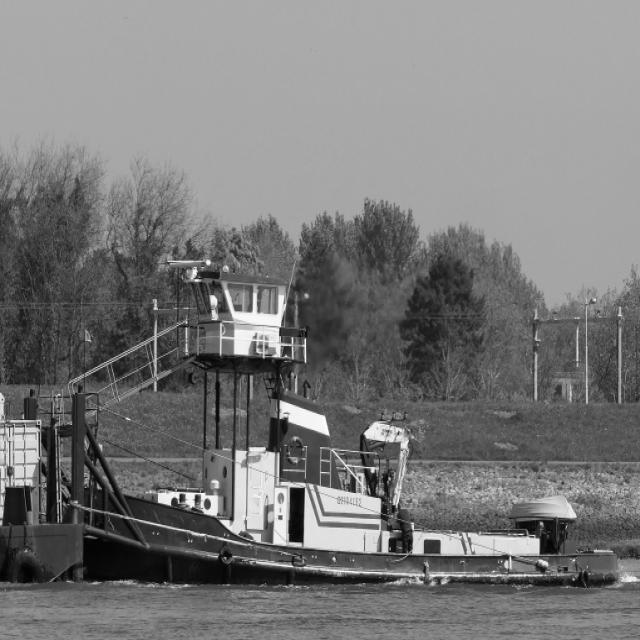tugboat: (18, 240, 625, 603)
